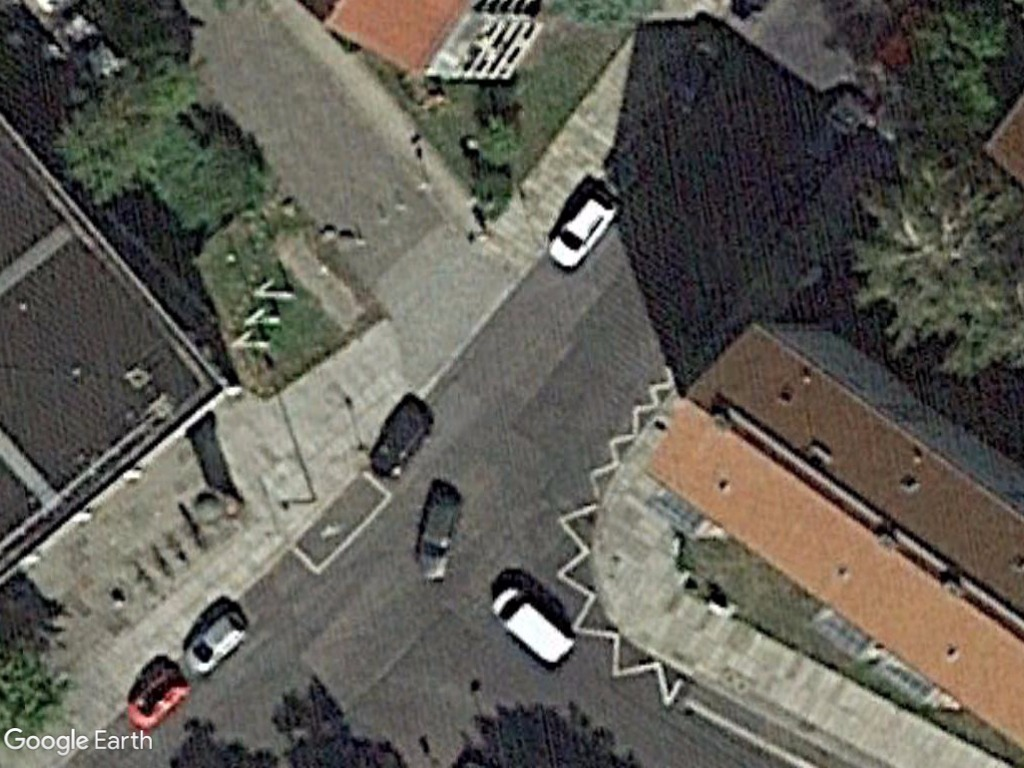car: (540, 181, 621, 274), (177, 598, 259, 682)
van: (483, 579, 581, 672)
